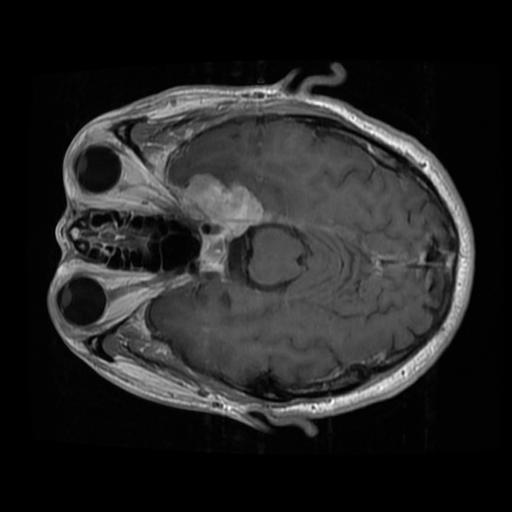meningioma: (177, 171, 261, 238)
